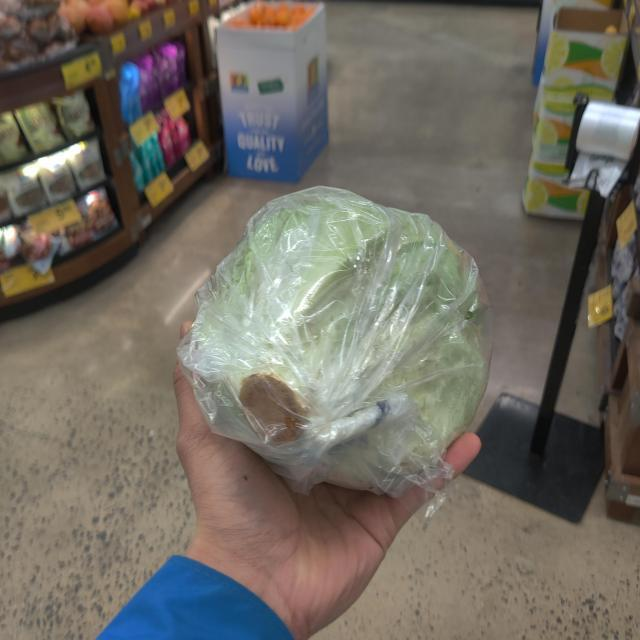Lettuce: (178, 184, 494, 489)
